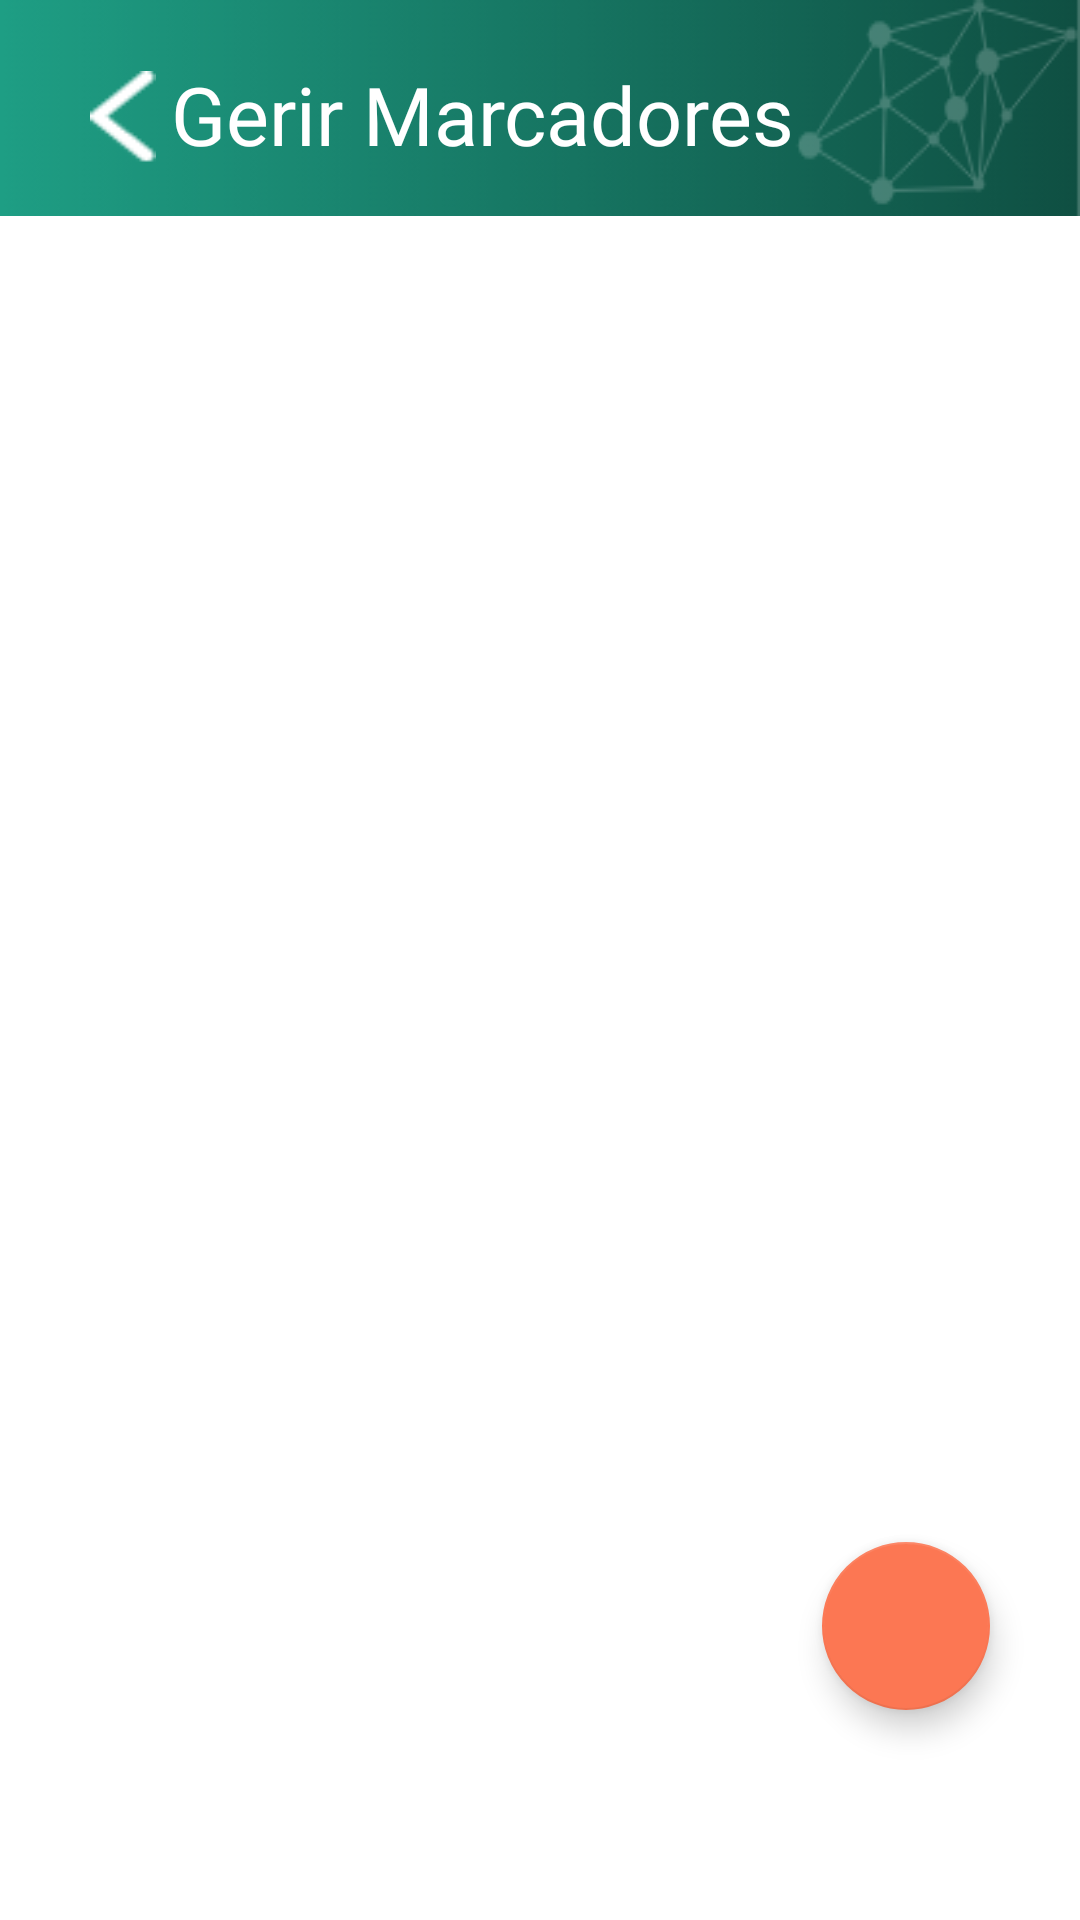

Icons on this 1080×1920 Android screen, each with its box as (x1, y1, x2, y2):
back arrow: (90, 71, 156, 162)
